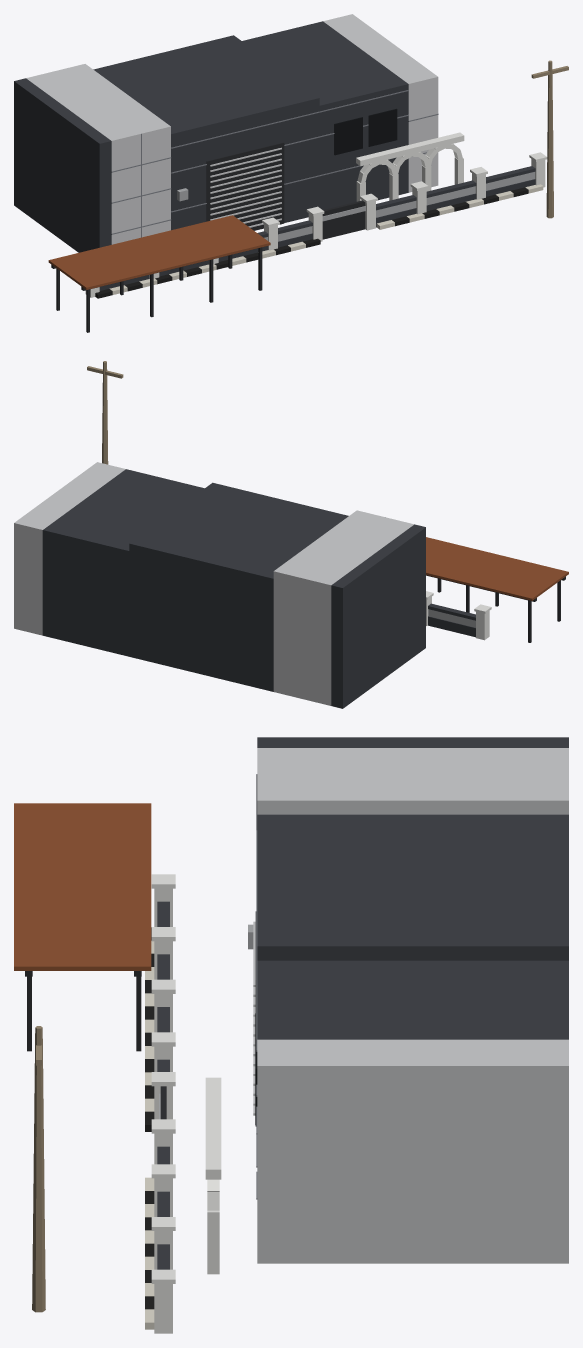
The model's file is sazza.glb.
3 renders of one model, top to bottom at view 1: azimuth 30°, elevation 25°; view 2: azimuth 150°, elevation 25°; view 3: azimuth 270°, elevation 25°, orthographic. The views are drawn at different scales.
Visible parts, largest first — view 1: Building_LowPoly; view 2: Building_LowPoly; view 3: Building_LowPoly.
Part boxes in pixels (x1,y1,x2,y2): Building_LowPoly: [14, 14, 568, 332]; Building_LowPoly: [14, 361, 568, 708]; Building_LowPoly: [14, 737, 568, 1333].
Bounding box in the file's own units: 33.58 × 10 × 17.8.
